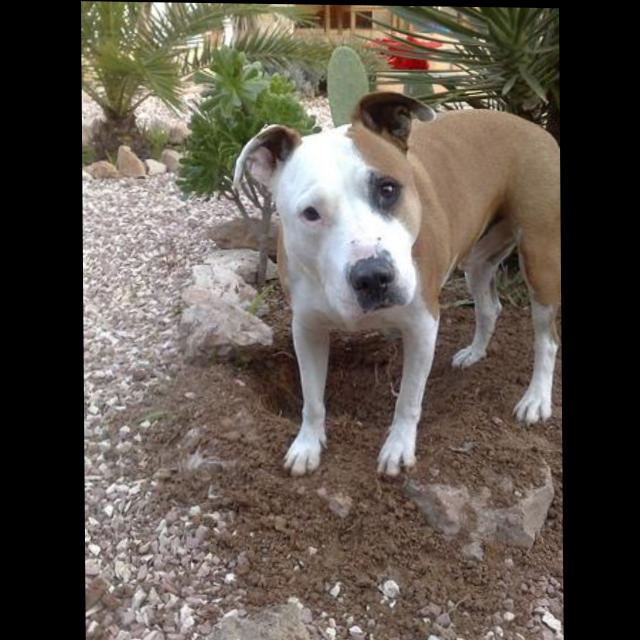amstaff: (233, 88, 562, 481)
